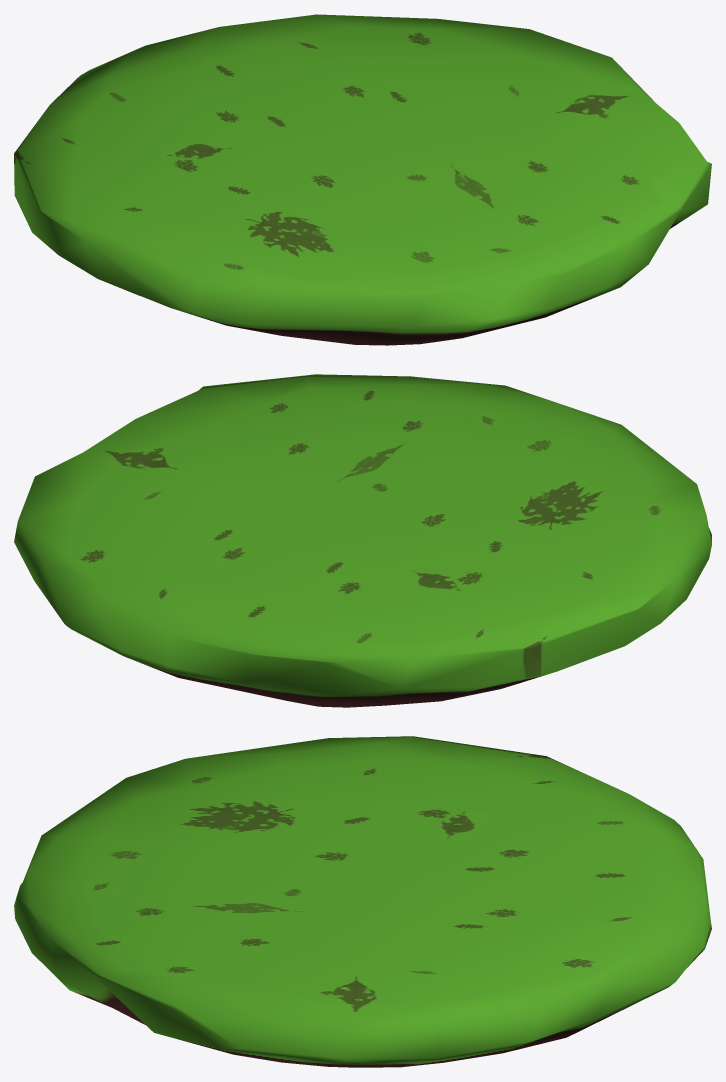
The model's file is island.glb.
3 views of the same model, one above another, from view 1: azimuth 30°, elevation 25°; view 2: azimuth 150°, elevation 25°; view 3: azimuth 270°, elevation 25° (orthographic).
Visible parts, largest first — view 1: geo1_Baker_0; view 2: geo1_Baker_0; view 3: geo1_Baker_0.
Boxes of the visible parts, x1,y1,x2,y2 form: geo1_Baker_0: (14, 14, 711, 345); geo1_Baker_0: (14, 374, 711, 707); geo1_Baker_0: (14, 736, 711, 1067).
Bounding box in the file's own units: 2 × 0.4723 × 2.
1 material, 1 textured.
